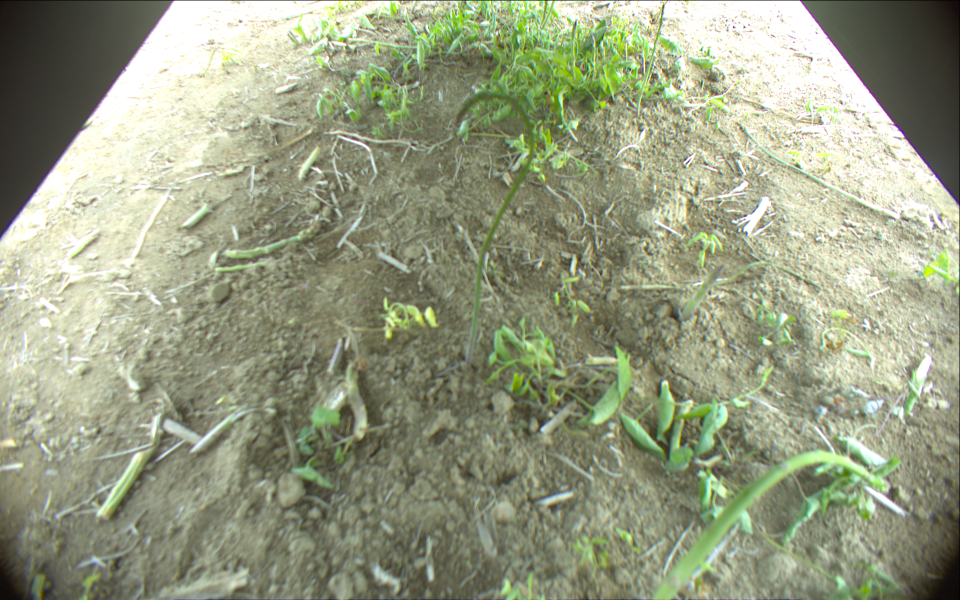aspa: (654, 450, 886, 600), (455, 91, 536, 367), (737, 122, 897, 219), (616, 263, 820, 294), (225, 205, 332, 259), (636, 1, 665, 112), (679, 263, 725, 318), (568, 18, 579, 62), (542, 1, 554, 32), (591, 34, 600, 69), (542, 1, 548, 29)
